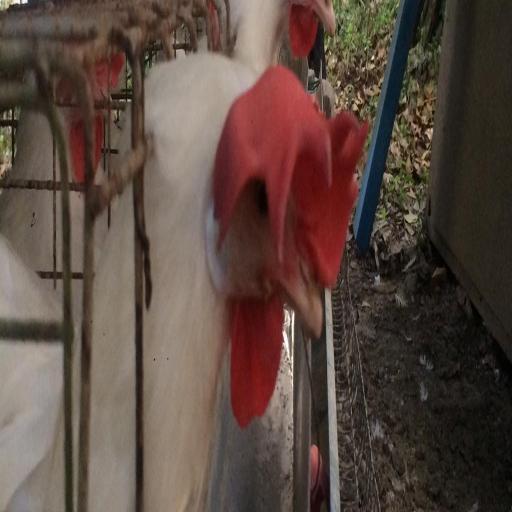healthy: (210, 34, 347, 378)
